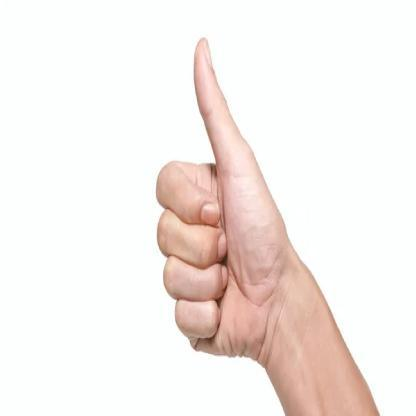thumb_up: (148, 31, 288, 384)
